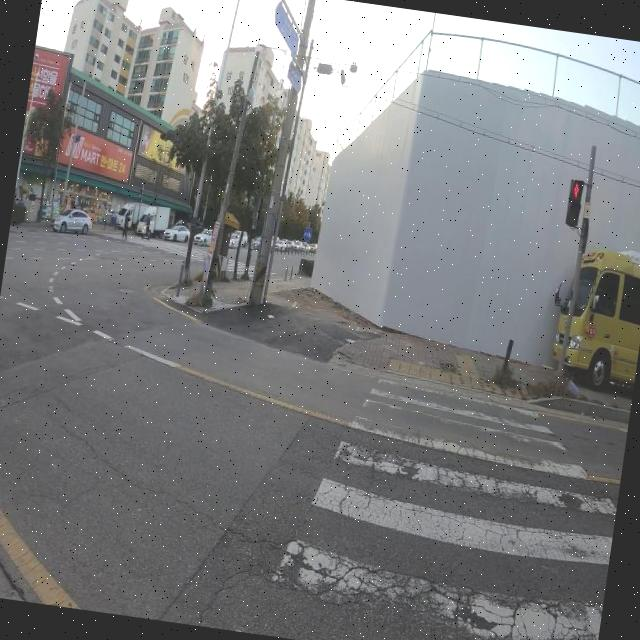crosswalk: (247, 374, 617, 640), (93, 232, 285, 279)
